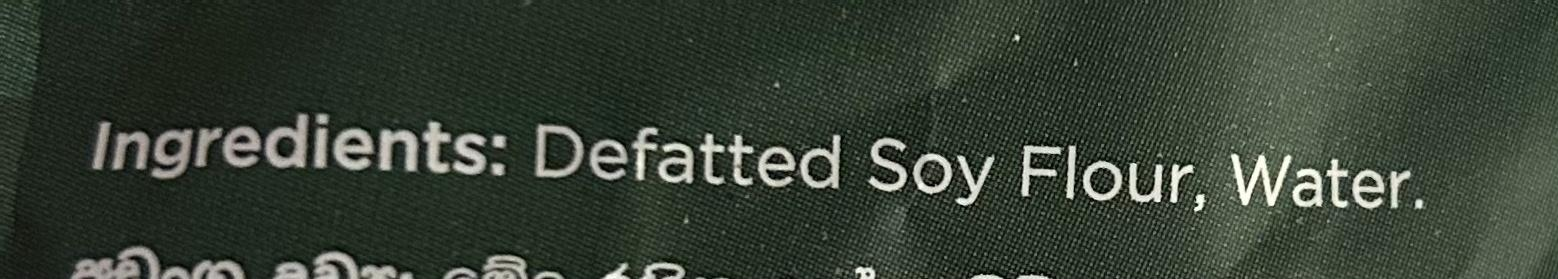ingredients: (60, 77, 1454, 239)
